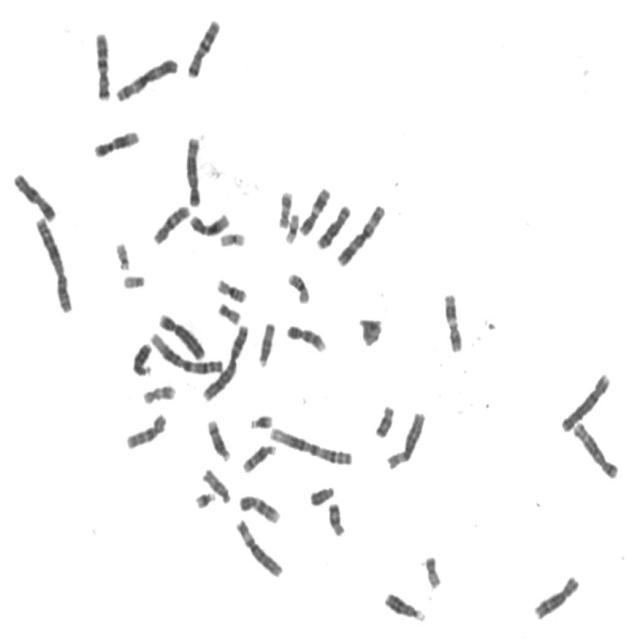A1: (266, 421, 355, 467), (146, 326, 225, 376)
A2: (31, 212, 74, 314), (198, 319, 250, 403)
A3: (333, 199, 387, 267), (112, 52, 180, 103)
B4: (558, 367, 612, 434), (155, 308, 207, 361)
B5: (569, 416, 620, 480), (181, 130, 203, 208)
C10: (149, 200, 192, 247), (122, 408, 169, 450)
C11: (296, 182, 332, 237), (440, 288, 465, 353)
C12: (90, 125, 141, 159), (186, 207, 231, 237)
C6: (232, 513, 284, 580), (383, 406, 427, 471)
C7: (182, 13, 222, 80), (91, 26, 112, 102)
C8: (530, 570, 581, 621), (312, 200, 352, 250)
C9: (235, 490, 282, 524), (283, 319, 328, 353)
D13: (381, 587, 426, 623), (128, 337, 154, 377)
D14: (204, 414, 232, 463), (239, 439, 277, 474)
D15: (199, 464, 232, 505), (254, 316, 276, 368)
E16: (213, 273, 249, 304), (284, 267, 311, 305)
E17: (139, 379, 177, 406), (274, 186, 294, 230)
E18: (372, 400, 396, 440), (324, 498, 346, 537)
F19: (281, 208, 301, 244), (216, 227, 247, 248)
F20: (421, 550, 443, 590), (214, 297, 242, 326)
G21: (245, 409, 275, 431), (191, 486, 216, 510)
G22: (112, 236, 131, 271), (119, 269, 146, 290)
X: (9, 168, 58, 222)
Y: (306, 480, 336, 508)
